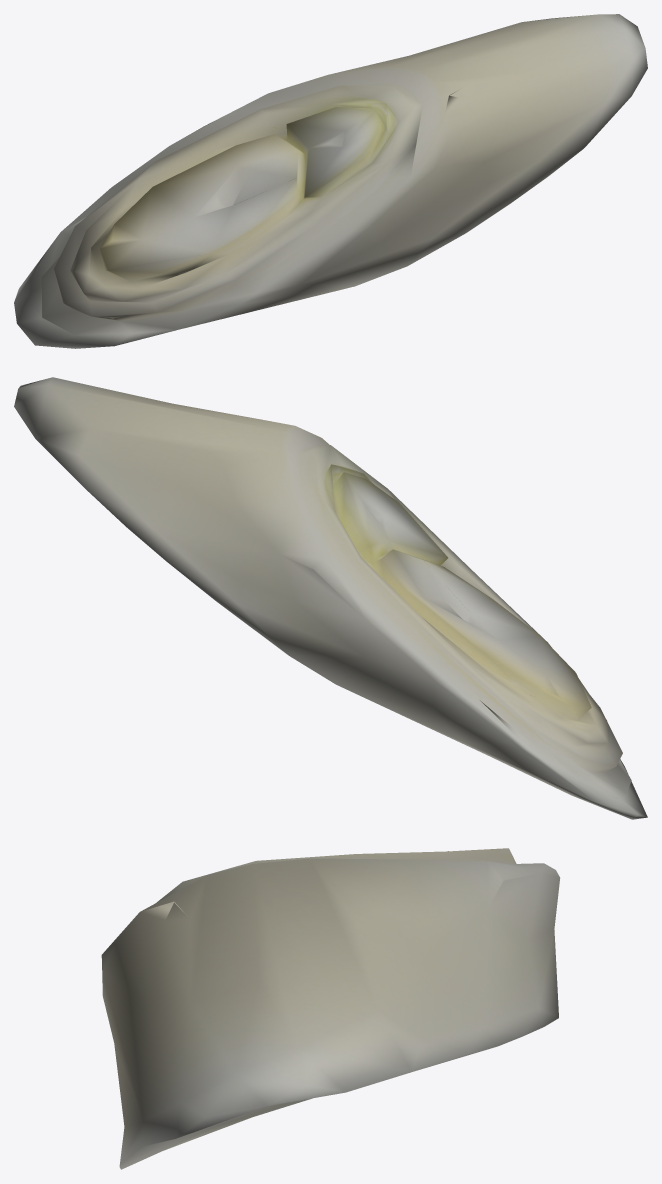
Rendered from NEGI.obj.
3 views of the same model, one above another, from view 1: azimuth 30°, elevation 25°; view 2: azimuth 150°, elevation 25°; view 3: azimuth 270°, elevation 25° (orthographic). The views are drawn at different scales.
Visible parts, largest first — view 1: tripo_node_246fc3c9; view 2: tripo_node_246fc3c9; view 3: tripo_node_246fc3c9.
Part boxes in pixels (x1,y1,x2,y2): tripo_node_246fc3c9: [14, 14, 647, 348]; tripo_node_246fc3c9: [14, 377, 647, 819]; tripo_node_246fc3c9: [101, 848, 560, 1169].
Bounding box in the file's own units: 0.9996 × 0.3645 × 0.3459.
1 material, 1 textured.
